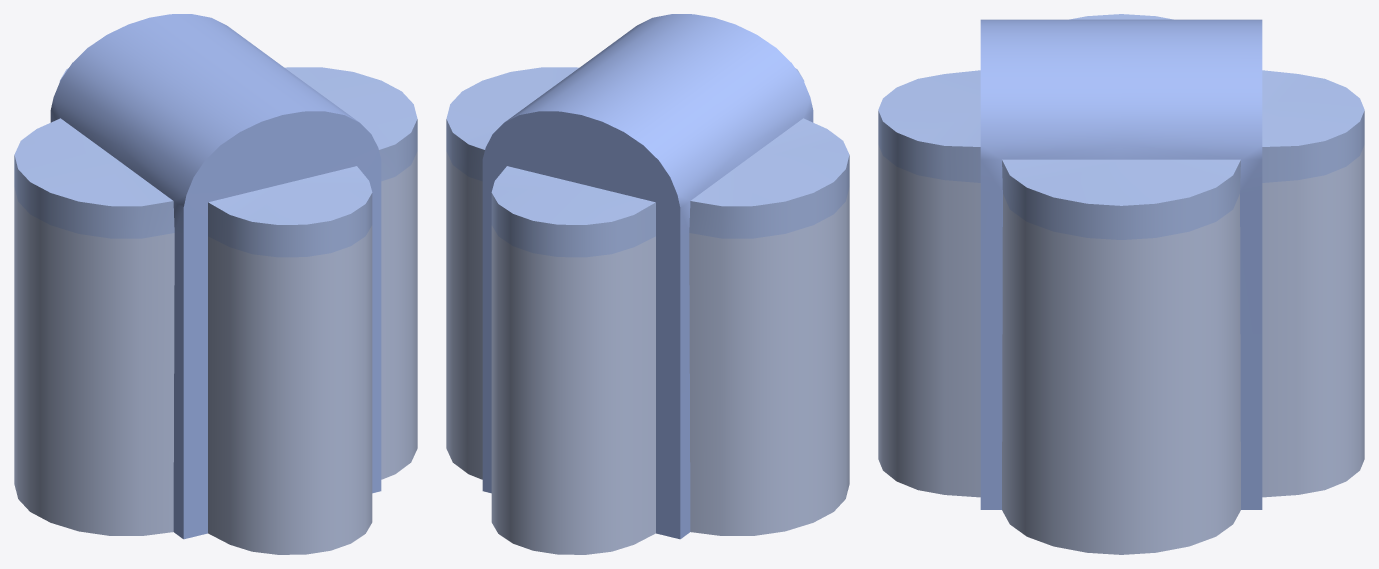
File: house_2_Xsmall.fbx
3 views of the same model, side by side, from view 1: azimuth 30°, elevation 25°; view 2: azimuth 150°, elevation 25°; view 3: azimuth 270°, elevation 25° (orthographic). The views are drawn at different scales.
Parts seen in each view (by area): view 1: house_2_Xsmall; view 2: house_2_Xsmall; view 3: house_2_Xsmall.
Boxes of the visible parts, x1,y1,x2,y2 form: house_2_Xsmall: (14,14,417,554); house_2_Xsmall: (446,14,849,554); house_2_Xsmall: (878,14,1364,554).
Size of the model in its own units: 76.59 by 78.82 by 82.05.
